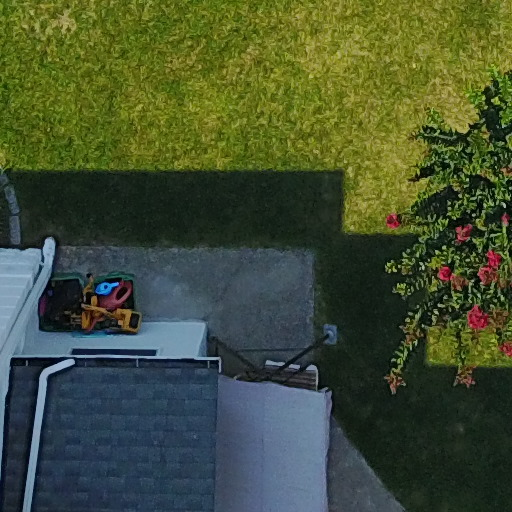clutter: (36, 270, 156, 336)
watering can: (90, 279, 122, 300)
